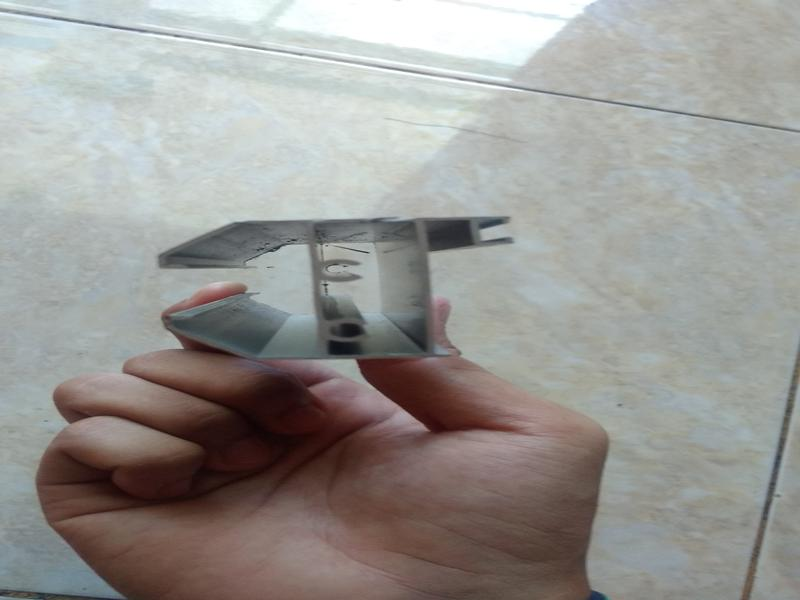Aluminium_3: (136, 195, 537, 371)
